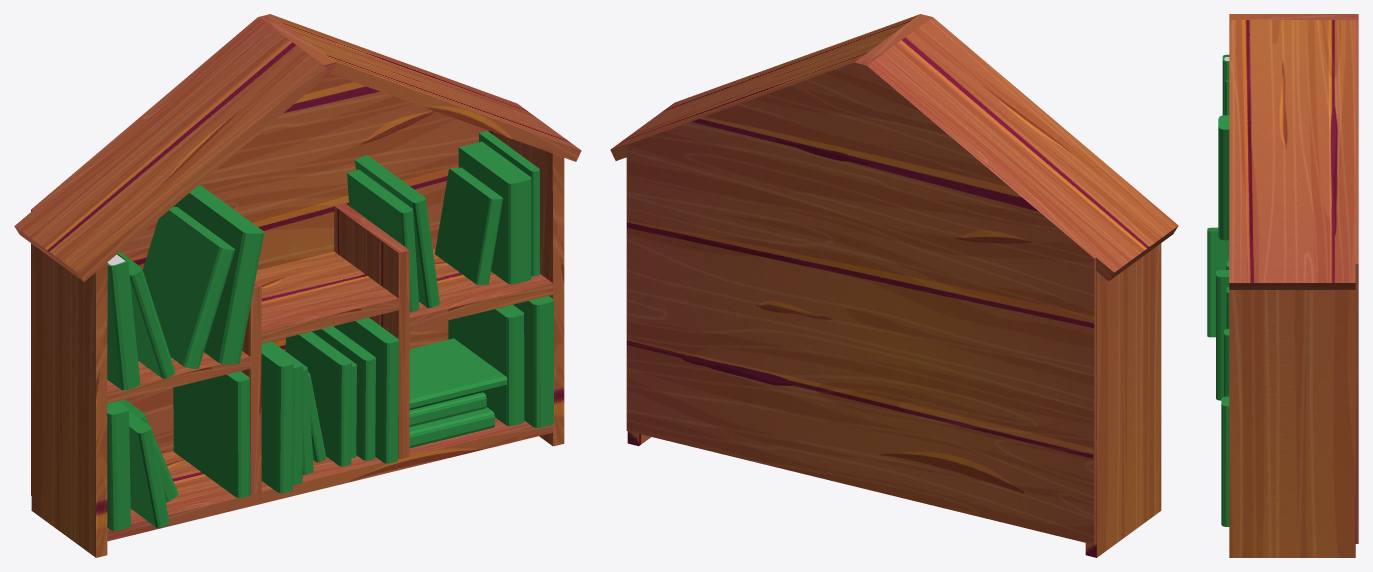
File: bibliothequeV2.fbx
3 renders of one model, left to right at view 1: azimuth 30°, elevation 25°; view 2: azimuth 150°, elevation 25°; view 3: azimuth 270°, elevation 25°, orthographic. The views are drawn at different scales.
Visible parts, largest first — view 1: Toit, Fond, Cotes, Livre.002, Separations, Bas, EtagereMilieu, Livre.007, Etageres, Livre.003, Livre.027, Livre.026 (+20 smaller); view 2: Fond, Toit, Cotes; view 3: Toit, Cotes, Fond, Livre.003, Livre.005, Livre.009, Livre.019, Livre.013, Livre.
Boxes of the visible parts, left/top/right/bottom form: Toit: left=14, top=15, right=581, bottom=281; Fond: left=31, top=14, right=488, bottom=495; Cotes: left=31, top=130, right=564, bottom=557; Livre.002: left=143, top=206, right=234, bottom=368; Separations: left=241, top=203, right=409, bottom=494; Bas: left=107, top=417, right=552, bottom=541; EtagereMilieu: left=255, top=251, right=398, bottom=343; Livre.007: left=173, top=371, right=250, bottom=497; Etageres: left=107, top=249, right=552, bottom=403; Livre.003: left=173, top=184, right=264, bottom=364; Livre.027: left=435, top=167, right=502, bottom=285; Livre.026: left=458, top=141, right=531, bottom=284; Fond: left=626, top=61, right=1095, bottom=544; Toit: left=610, top=14, right=1178, bottom=281; Cotes: left=627, top=243, right=1161, bottom=557; Toit: left=1229, top=14, right=1355, bottom=289; Cotes: left=1229, top=290, right=1355, bottom=557; Fond: left=1355, top=14, right=1358, bottom=543; Livre.003: left=1218, top=115, right=1229, bottom=240; Livre.005: left=1207, top=227, right=1229, bottom=337; Livre.009: left=1216, top=270, right=1229, bottom=400; Livre.019: left=1221, top=396, right=1229, bottom=526; Livre.013: left=1224, top=329, right=1229, bottom=396; Livre: left=1222, top=54, right=1229, bottom=115.
Bounding box in the file's own units: 903 × 240 × 750.
3 materials, 1 textured.
